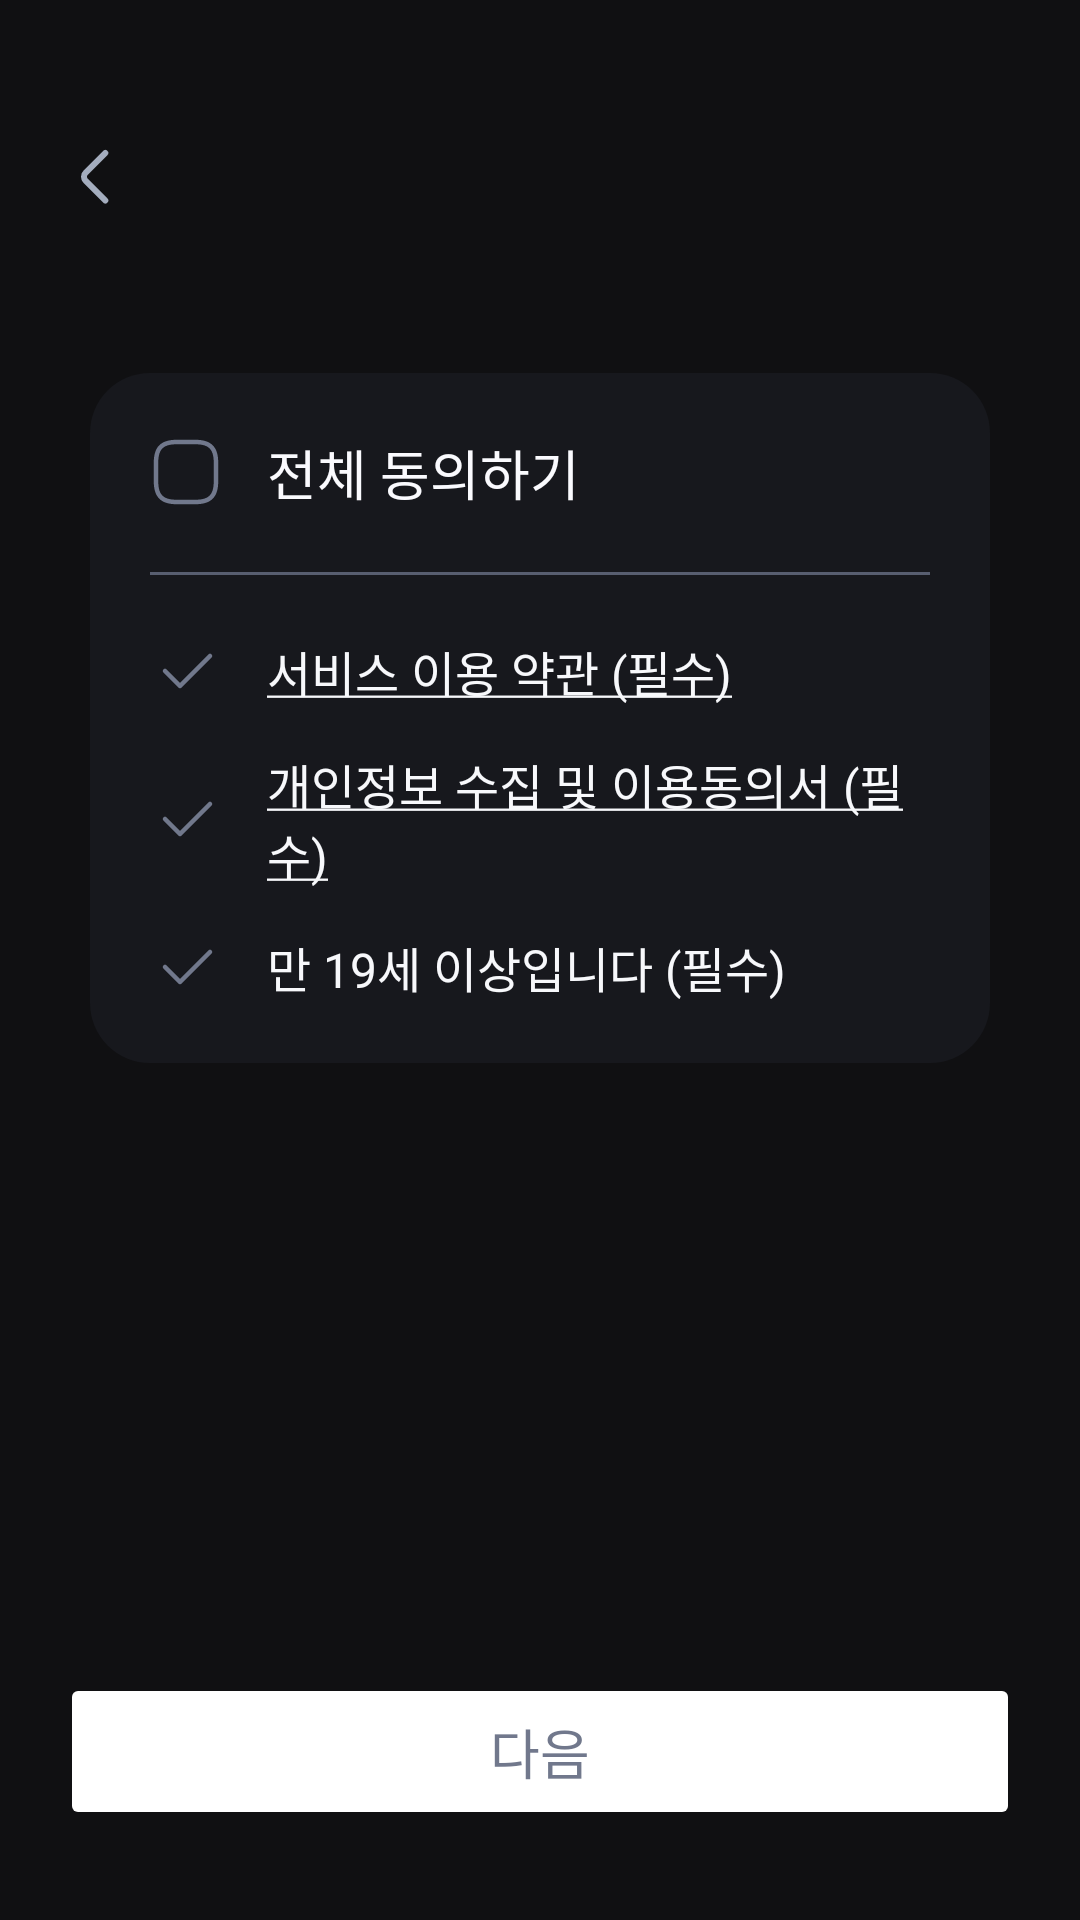

Named icons in this screenshot (1080 × 1920) and their centers, point (x, y):
arrow left: point (95, 177)
checkbox unchecked: point (186, 472)
